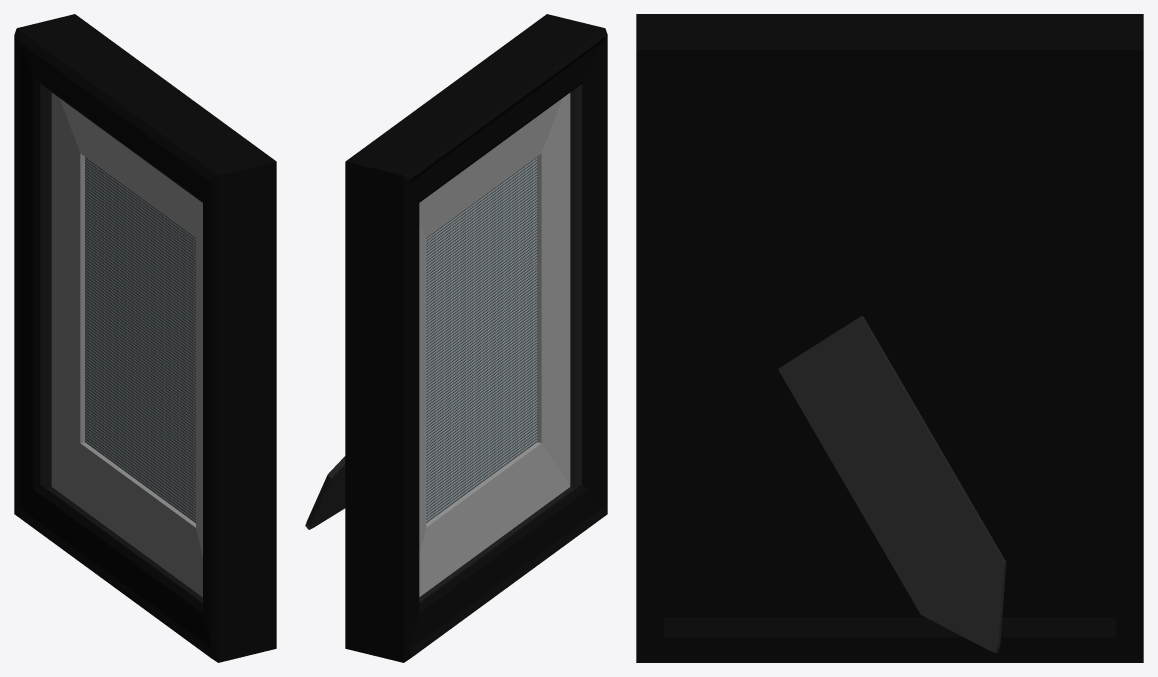
Rendered from Ikea Frame.obj.
3 renders of one model, left to right at view 1: azimuth 30°, elevation 25°; view 2: azimuth 150°, elevation 25°; view 3: azimuth 270°, elevation 25°, orthographic. The views are drawn at different scales.
Visible parts, largest first — view 1: Frame, Plane001, White; view 2: Frame, Plane001, White, Back2; view 3: Back, Frame, Back2.
Boxes of the visible parts, <box> form: Frame: <box>14,14,276,662</box>; Plane001: <box>85,157,195,522</box>; White: <box>51,92,202,597</box>; Frame: <box>345,14,607,662</box>; Plane001: <box>426,157,536,522</box>; White: <box>419,93,570,596</box>; Back2: <box>305,456,345,529</box>; Back: <box>664,75,1115,617</box>; Frame: <box>636,14,1143,662</box>; Back2: <box>778,316,1006,653</box>.
Size of the model in its own units: 8.34 by 24 by 18.
